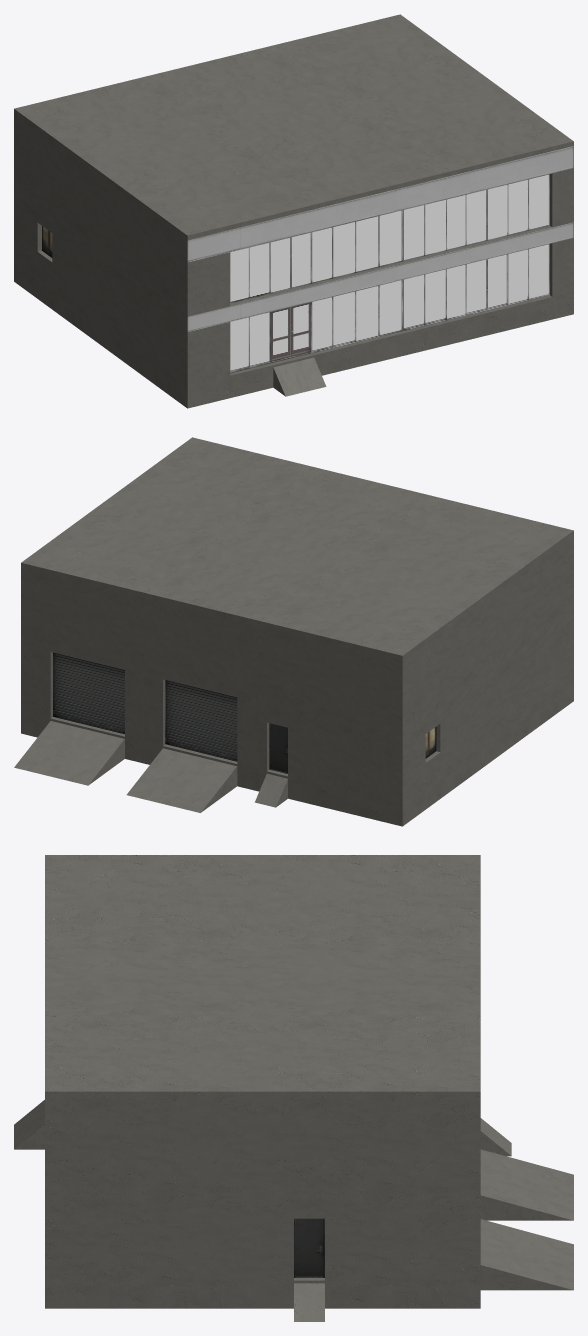
File: mid_house_2.fbx
3 renders of one model, top to bottom at view 1: azimuth 30°, elevation 25°; view 2: azimuth 150°, elevation 25°; view 3: azimuth 270°, elevation 25°, orthographic. The views are drawn at different scales.
Visible parts, largest first — view 1: mid_house_2; view 2: mid_house_2; view 3: mid_house_2.
Part boxes in pixels (x1=…): mid_house_2: x1=14, y1=14, x2=573, y2=408; mid_house_2: x1=14, y1=437, x2=573, y2=826; mid_house_2: x1=14, y1=855, x2=573, y2=1321.
Size of the model in its own units: 1900 by 770 by 1800.
